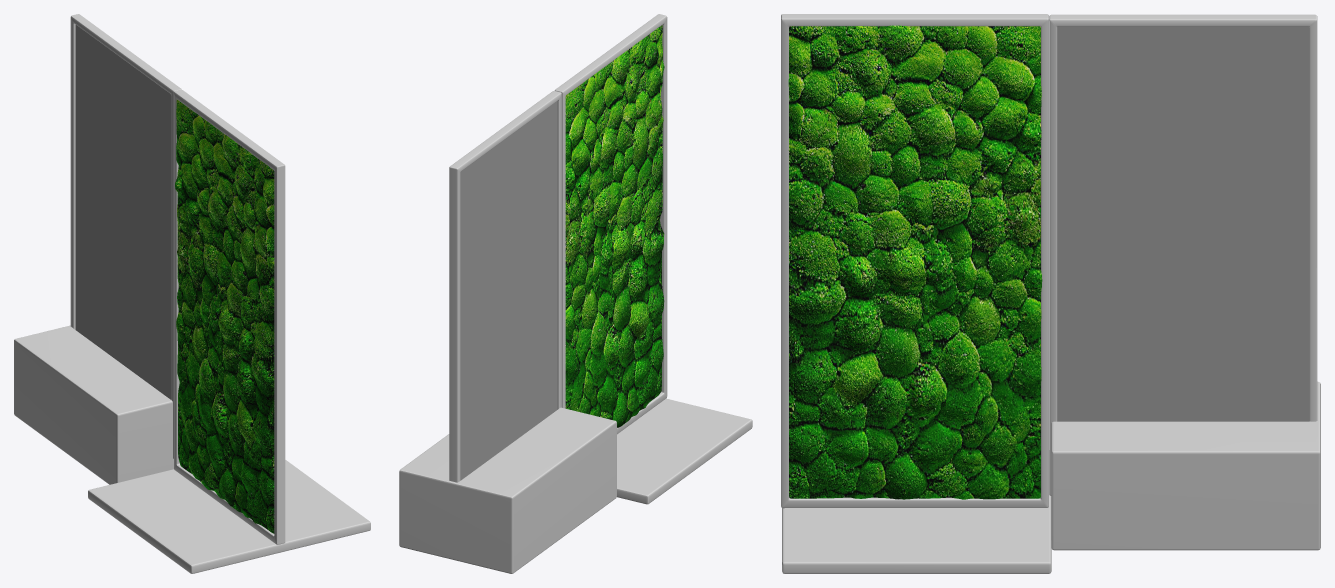
File: waterWall.fbx
3 renders of one model, left to right at view 1: azimuth 30°, elevation 25°; view 2: azimuth 150°, elevation 25°; view 3: azimuth 270°, elevation 25°, orthographic. The views are drawn at different scales.
Visible parts, largest first — view 1: moss_, double, step4, step2, edge6, edge; view 2: moss_, double, step4, step2, edge, edge6; view 3: moss_, double, step4, step2, edge6, edge.
Boxes of the visible parts, x1=… form: moss_: x1=175, y1=99, x2=274, y2=533; double: x1=75, y1=25, x2=171, y2=399; step4: x1=14, y1=325, x2=173, y2=484; step2: x1=88, y1=460, x2=370, y2=573; edge6: x1=174, y1=89, x2=285, y2=544; edge: x1=70, y1=14, x2=181, y2=458; moss_: x1=565, y1=25, x2=664, y2=427; double: x1=460, y1=101, x2=556, y2=480; step4: x1=399, y1=407, x2=616, y2=573; step2: x1=617, y1=398, x2=752, y2=504; edge: x1=449, y1=91, x2=561, y2=482; edge6: x1=554, y1=14, x2=667, y2=434; moss_: x1=788, y1=25, x2=1042, y2=499; double: x1=1057, y1=26, x2=1309, y2=421; step4: x1=1051, y1=381, x2=1320, y2=550; step2: x1=782, y1=450, x2=1051, y2=573; edge6: x1=781, y1=14, x2=1048, y2=508; edge: x1=1049, y1=14, x2=1317, y2=495.
Bounding box in the file's own units: 100 × 205 × 200.
Materials: 4 (1 with a texture image).
